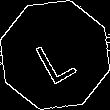L_NW: (29, 26, 81, 84)
